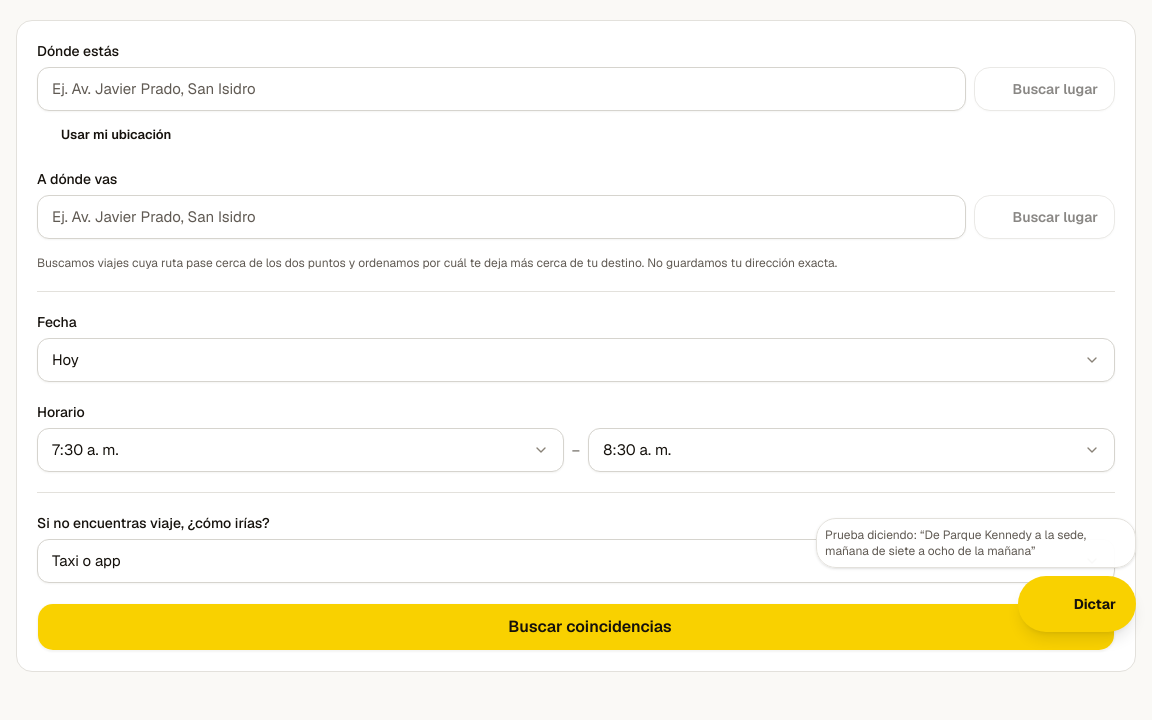
Test case: search page /buscar (US-013) › asks for origin and destination before searching
(page scrolled)
Check: the field labelled "Dónde estás" is shown, box [37,67,966,111]
Click the button "Buscar coincidencias" at (576, 627), box [37,603,1115,651]
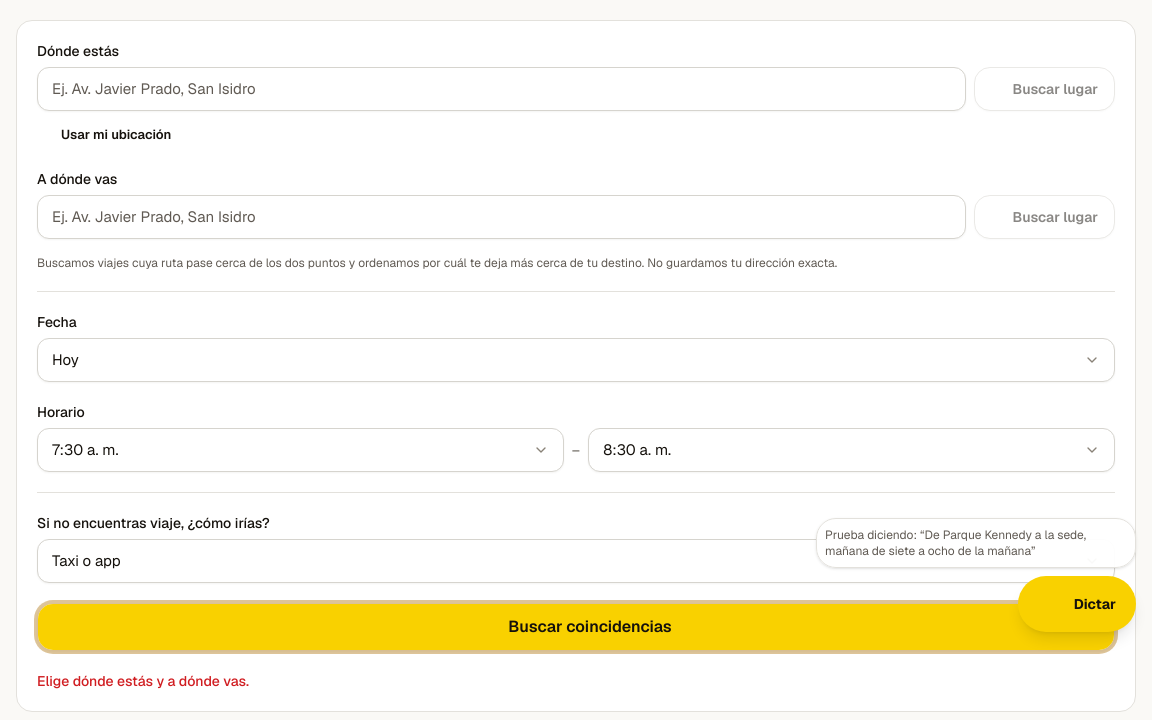
Check: the text "Elige dónde estás y a dónde vas." is shown, box [37,672,249,690]
